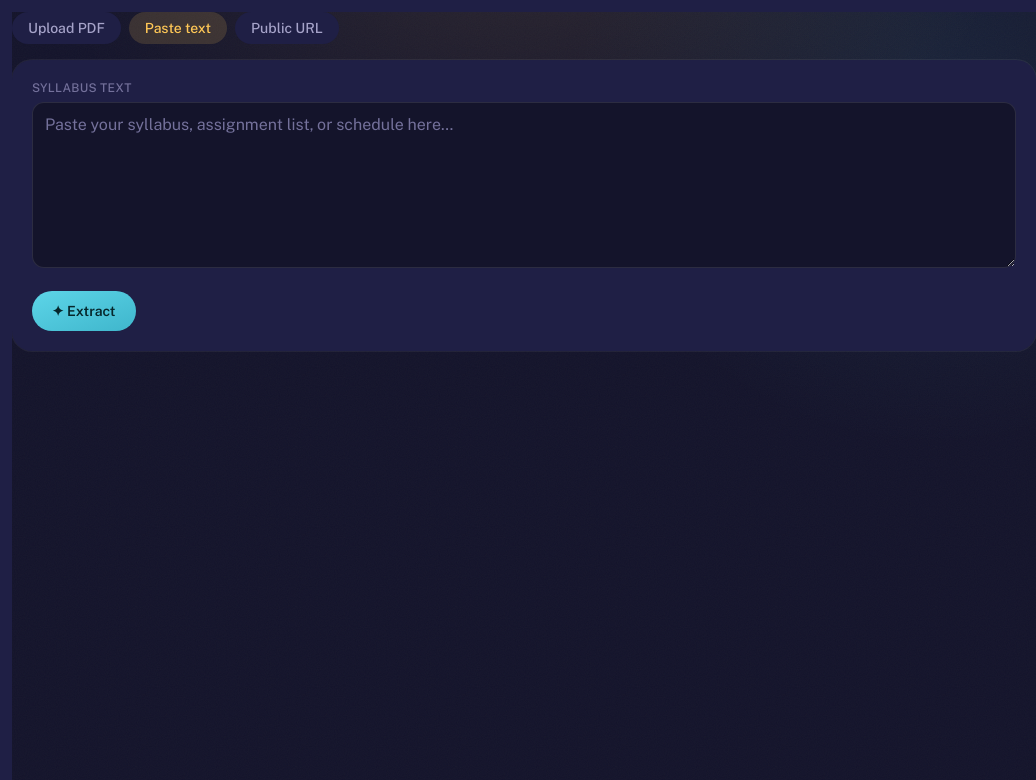
Scenario: SyllabusImport › extracts items from pasted text and lists them
This screenshot has width=1036, height=780.
Type "Midterm July 1 30%" into the text box labelled "Syllabus text" at [524, 185], box [32, 102, 1016, 268]
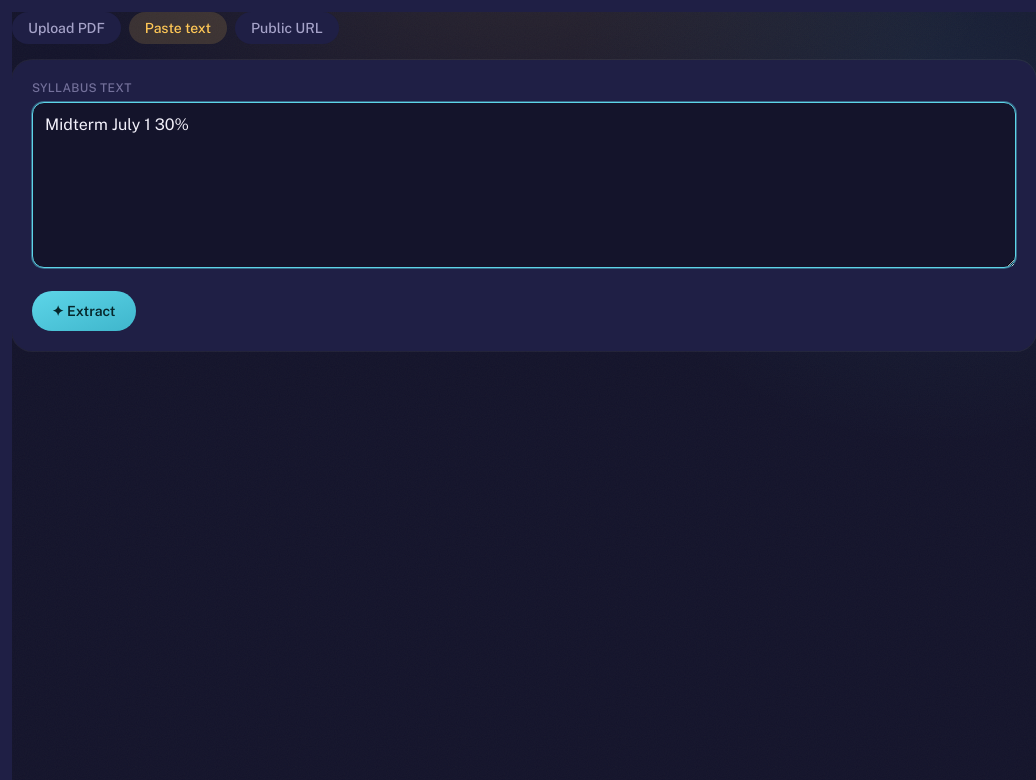
Click the button "✦ Extract" at [84, 311], box [32, 291, 136, 331]
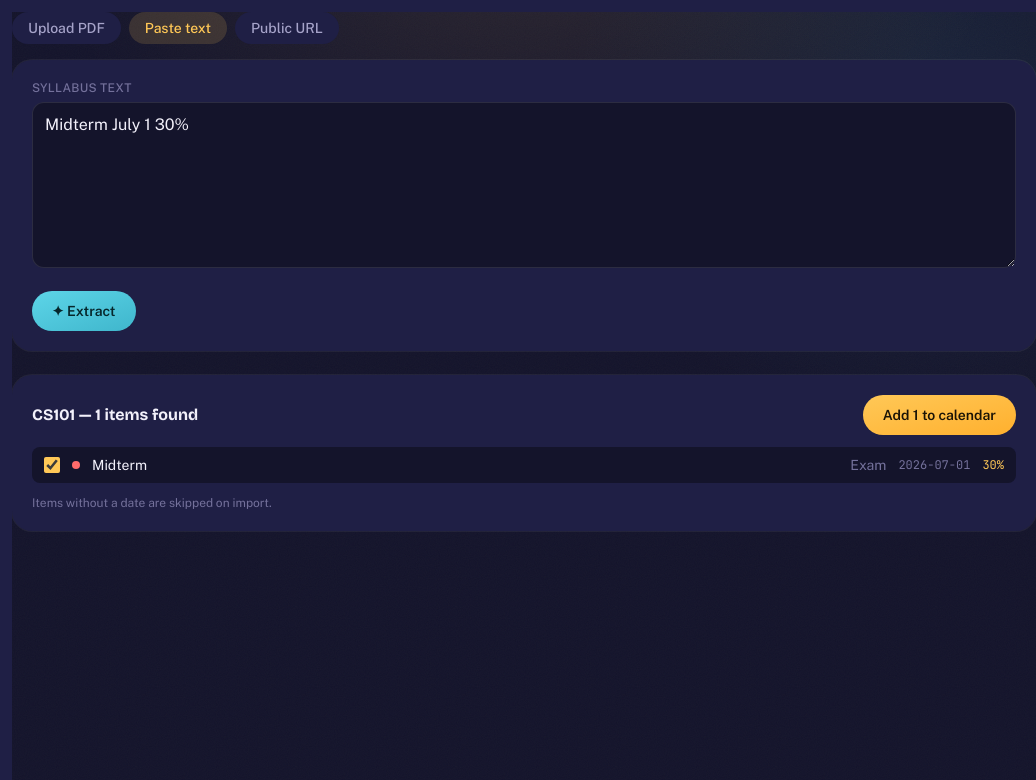
Check: the text "Midterm" is shown, box [92, 457, 147, 473]
